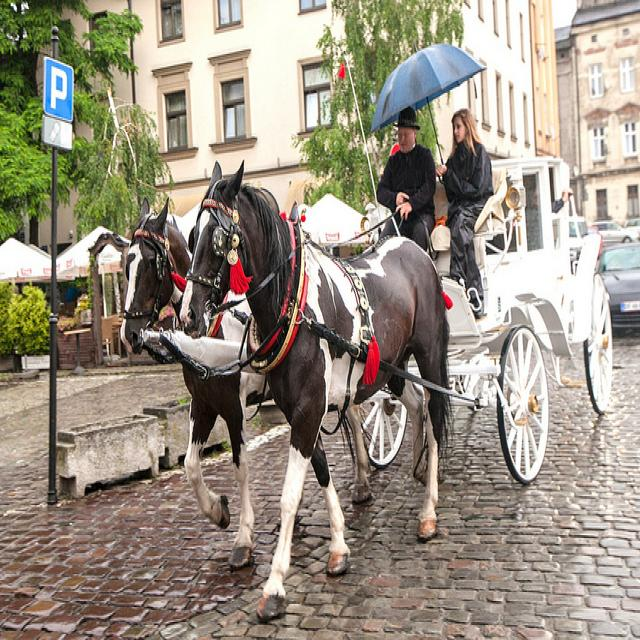Vehicle: (596, 242, 640, 332), (587, 221, 640, 260), (568, 215, 587, 274), (622, 216, 640, 236)
